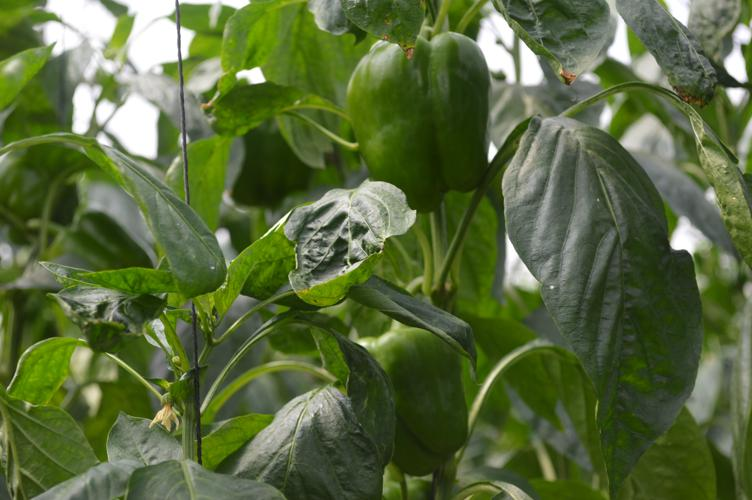BellPepper: (345, 34, 488, 214), (357, 329, 473, 476)
